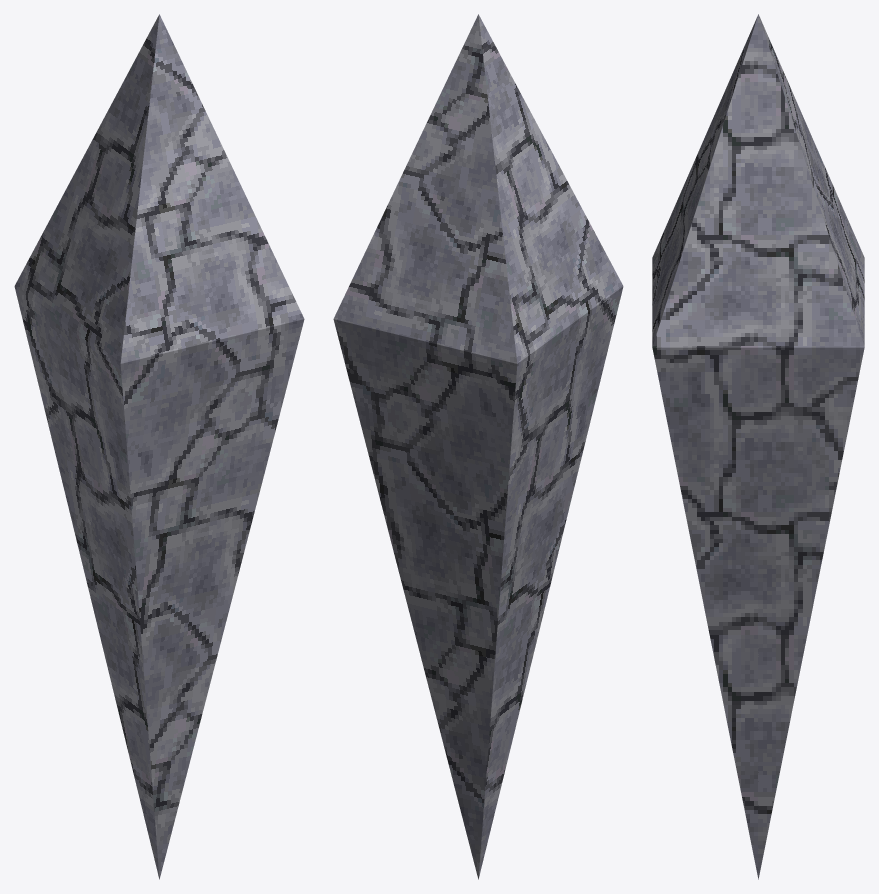
Rendered from ki_hasira.glb.
3 renders of one model, left to right at view 1: azimuth 30°, elevation 25°; view 2: azimuth 150°, elevation 25°; view 3: azimuth 270°, elevation 25°, orthographic.
Visible parts, largest first — view 1: ki_hasira; view 2: ki_hasira; view 3: ki_hasira.
Part boxes in pixels (bbox=[...]): ki_hasira: bbox=[14, 14, 304, 879]; ki_hasira: bbox=[333, 14, 623, 879]; ki_hasira: bbox=[652, 14, 864, 879].
Bounding box in the file's own units: 1.17 × 5.27 × 1.17.
Materials: 1 (1 with a texture image).
